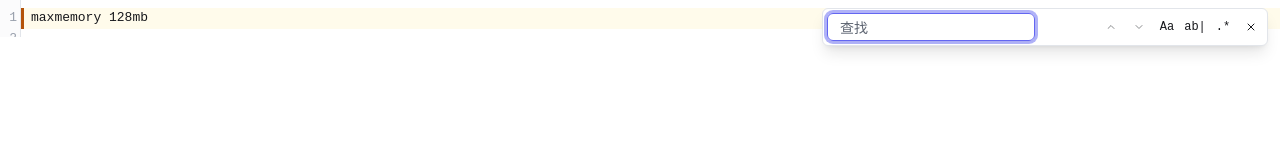
Test: 只看差异时隐藏行不计数
Type "save" into the search field named "在你的配置中查找" at (931,27), box [827, 13, 1035, 41]
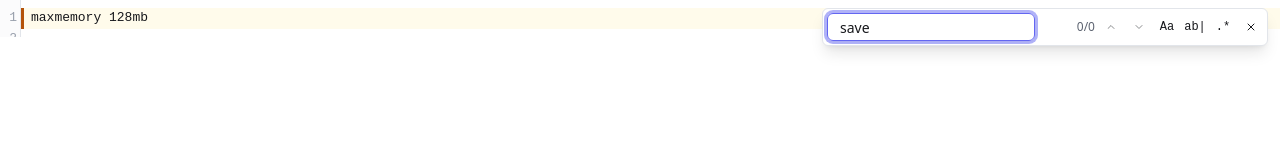
Now the text "0/0" is shown, box [1077, 18, 1095, 35]
